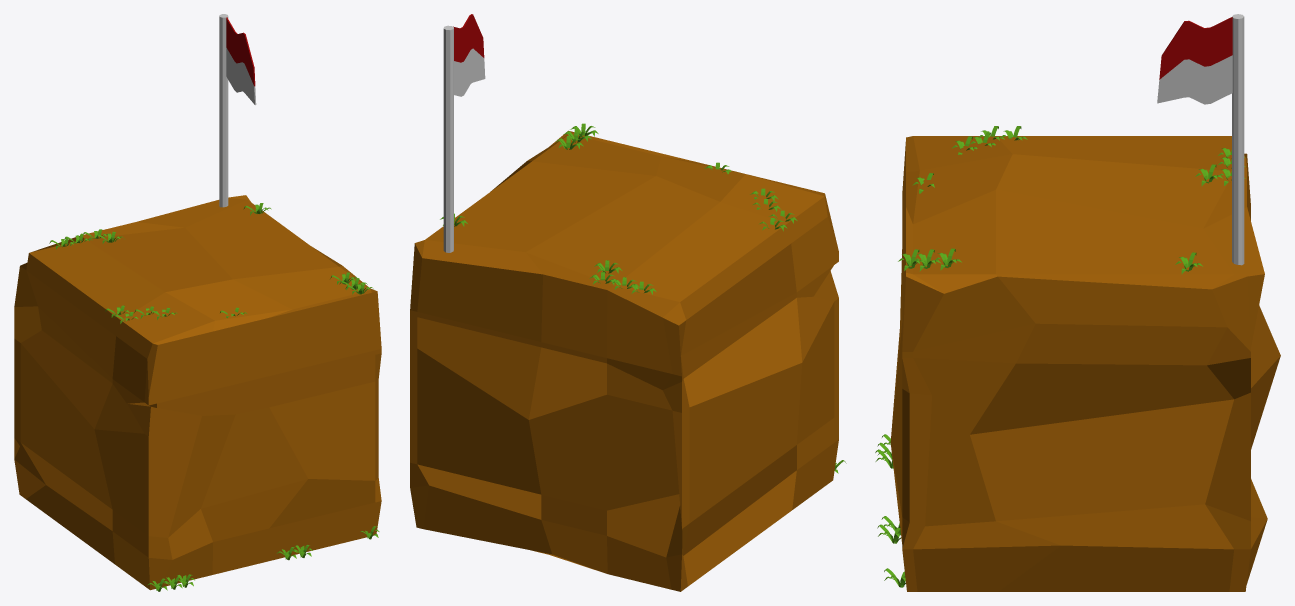
Rendered from block6.obj.
The picture shows the model from 3 angles, left to right: view 1: azimuth 30°, elevation 25°; view 2: azimuth 150°, elevation 25°; view 3: azimuth 270°, elevation 25°; orthographic projection. The views are drawn at different scales.
Visible parts, largest first — view 1: Plane.002_Plane.001, Cylinder.001; view 2: Plane.002_Plane.001, Cylinder.001; view 3: Plane.002_Plane.001, Cylinder.001.
Part boxes in pixels (<box>): Plane.002_Plane.001: <box>14,195,381,591</box>; Cylinder.001: <box>219,14,256,207</box>; Plane.002_Plane.001: <box>410,123,846,591</box>; Cylinder.001: <box>443,14,485,252</box>; Plane.002_Plane.001: <box>875,126,1280,591</box>; Cylinder.001: <box>1157,14,1244,265</box>.
Bounding box in the file's own units: 4.35 × 7.09 × 4.66.
